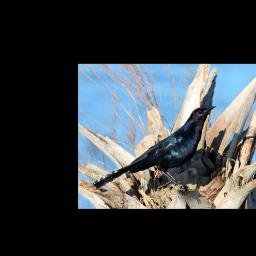Crow: (93, 106, 216, 195)
